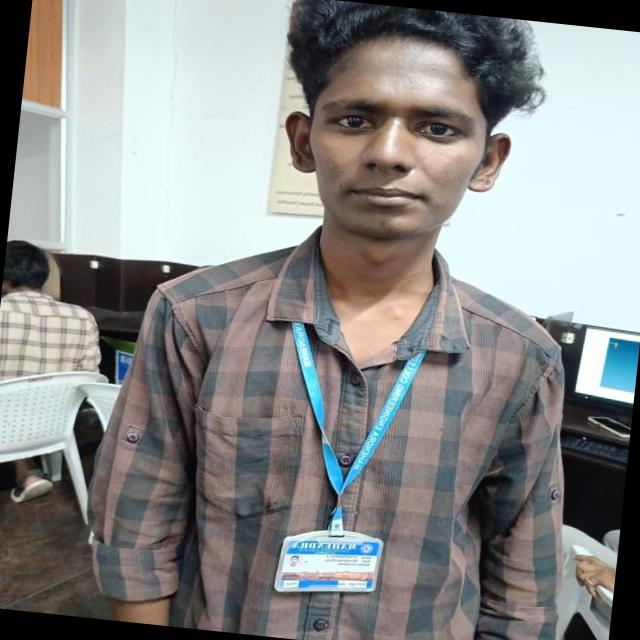id_card: (249, 309, 426, 604)
